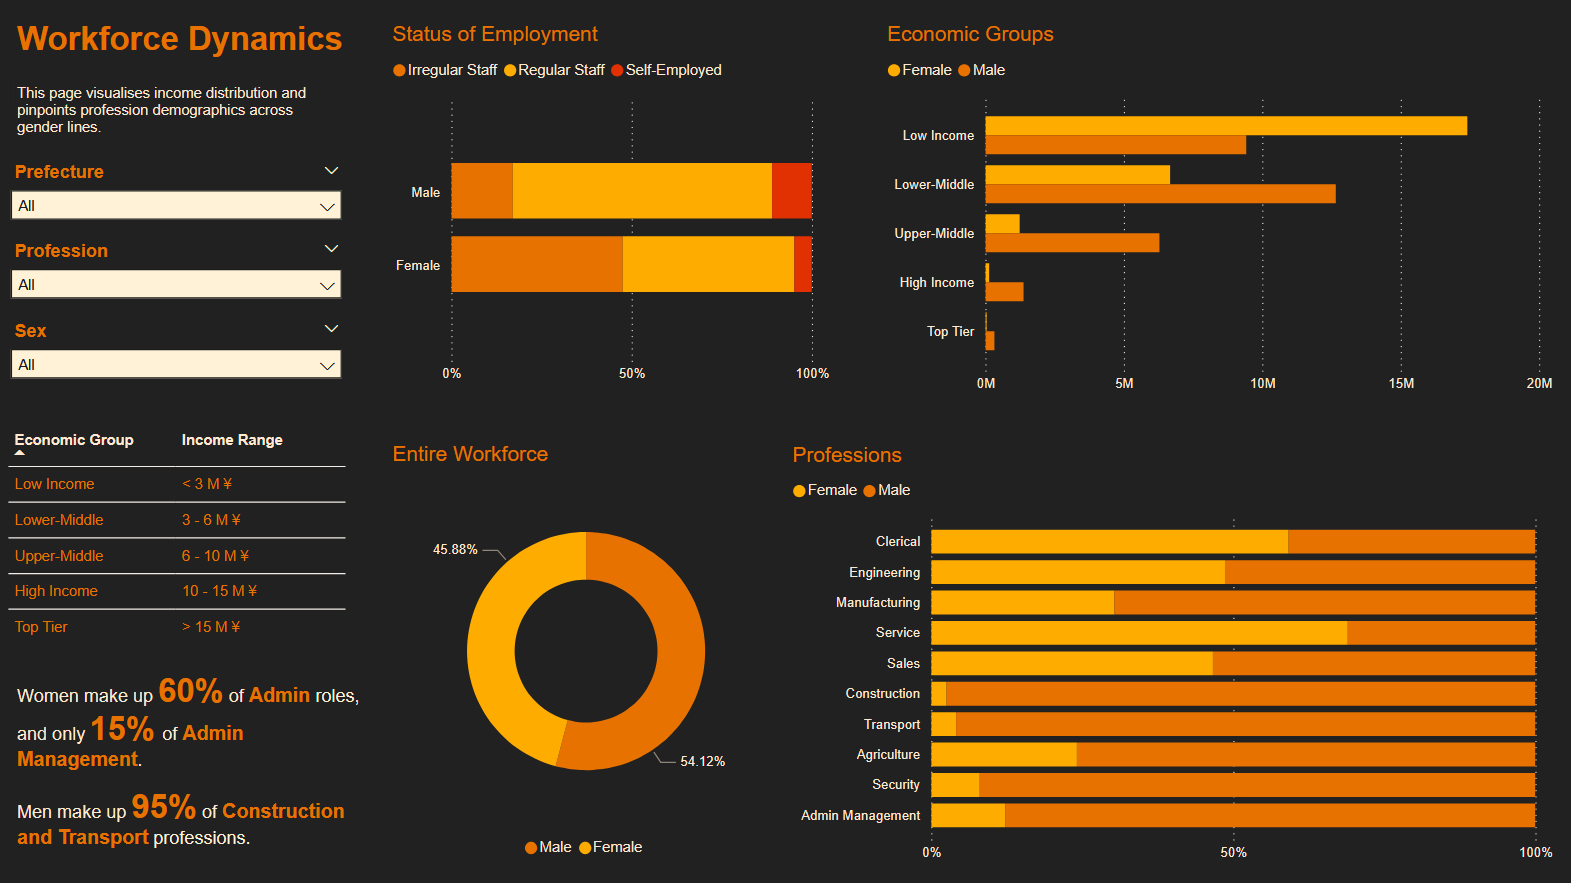

The page's visual inventory and layout, read from the dashboard file:
{"tool":"powerbi","page":{"name":"Workforce Dynamics","canvas":[1280,720],"ordinal":2},"visuals":[{"type":"clusteredBarChart","title":"Economic Groups","fields":{"Category":["Income Group Table.Economic Group"],"Y":["Sum(japan_comprehensive_data.Value)"],"Series":["japan_comprehensive_data.Sex"]},"box":[717.2,19.2,550.5,308.1],"z":0},{"type":"hundredPercentStackedBarChart","title":"Professions","fields":{"Category":["japan_comprehensive_data.Profession"],"Series":["japan_comprehensive_data.Sex"],"Y":["Sum(japan_comprehensive_data.Value)"]},"box":[640.4,360.6,627.3,347.5],"z":1000},{"type":"donutChart","title":"Entire Workforce","fields":{"Category":["japan_comprehensive_data.Sex"],"Y":["Sum(japan_comprehensive_data.Value)"]},"box":[315.2,359.6,325.3,348.5],"z":2000},{"type":"textbox","box":[10.1,12.1,278.8,75.8],"z":3000},{"type":"textbox","box":[10.1,63.6,267.7,63.6],"z":4000},{"type":"slicer","fields":{"Values":["japan_comprehensive_data.Sex"]},"box":[0,255.6,288.9,63.6],"z":5000},{"type":"slicer","fields":{"Values":["japan_comprehensive_data.Prefecture"]},"box":[0,127.3,288.9,63.6],"z":6000},{"type":"slicer","fields":{"Values":["japan_comprehensive_data.Profession"]},"box":[0,190.9,288.9,64.6],"z":7000},{"type":"tableEx","title":"Economic Group Key","fields":{"Values":["Income Group Table.Economic Group","Income Group Table.Income Range"]},"box":[0,339.4,288.9,194.9],"z":8000},{"type":"textbox","box":[10.1,542.4,288.9,165.7],"z":9000},{"type":"hundredPercentStackedBarChart","title":"Status of Employment","fields":{"Category":["japan_comprehensive_data.Sex"],"Y":["Sum(japan_comprehensive_data.Value)"],"Series":["japan_comprehensive_data.Employment Status"]},"box":[315.2,19.2,364.6,300],"z":10000}]}

Visuals, with their boxes in screenshot pixels (x1, y1, x2, y2), scaled from the page's 1280x720 canvas onto the 1571x883 screenshot:
"Economic Groups" clusteredBarChart: <box>880,24,1556,401</box>
"Professions" hundredPercentStackedBarChart: <box>786,442,1556,868</box>
"Entire Workforce" donutChart: <box>387,441,786,868</box>
textbox: <box>12,15,355,108</box>
textbox: <box>12,78,341,156</box>
slicer - japan_comprehensive_data.Sex: <box>0,313,355,391</box>
slicer - japan_comprehensive_data.Prefecture: <box>0,156,355,234</box>
slicer - japan_comprehensive_data.Profession: <box>0,234,355,313</box>
"Economic Group Key" tableEx: <box>0,416,355,655</box>
textbox: <box>12,665,367,868</box>
"Status of Employment" hundredPercentStackedBarChart: <box>387,24,834,391</box>
